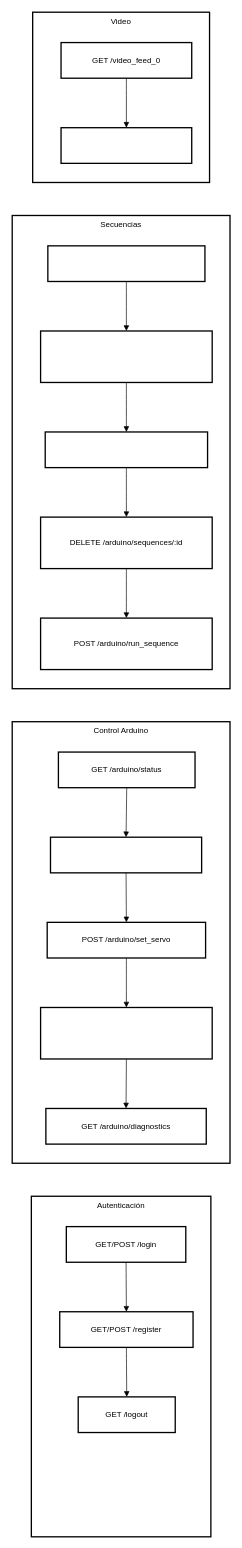
This 242x1548 diagram has some shape labels left out. The centre of each missing label's shape, as x and y in pixels:
"GET /arduino/sequences" belongs at (126,263).
"GET /arduino/sequences/:id" belongs at (126,356).
"GET /video_feed_1" belongs at (126,145).
"POST /arduino/connect" belongs at (126,854).
"POST /arduino/reset_servos" belongs at (126,1032).
"POST /arduino/sequences" belongs at (126,449).
